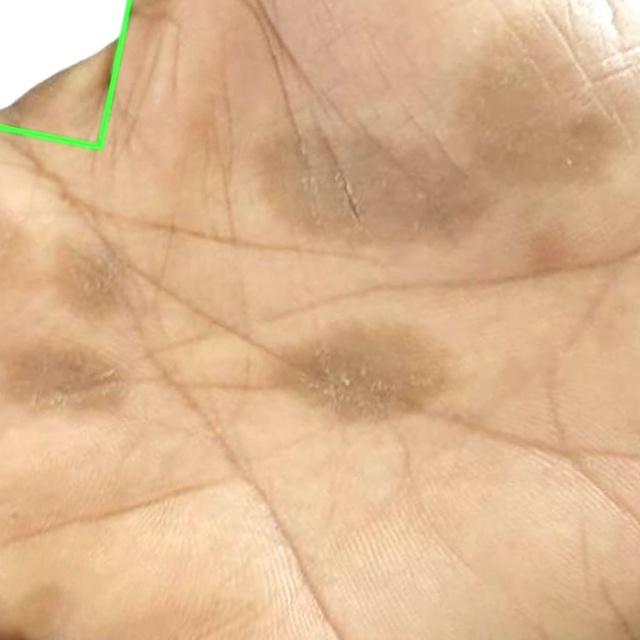Contact Dermatitis: (0, 0, 129, 146)
